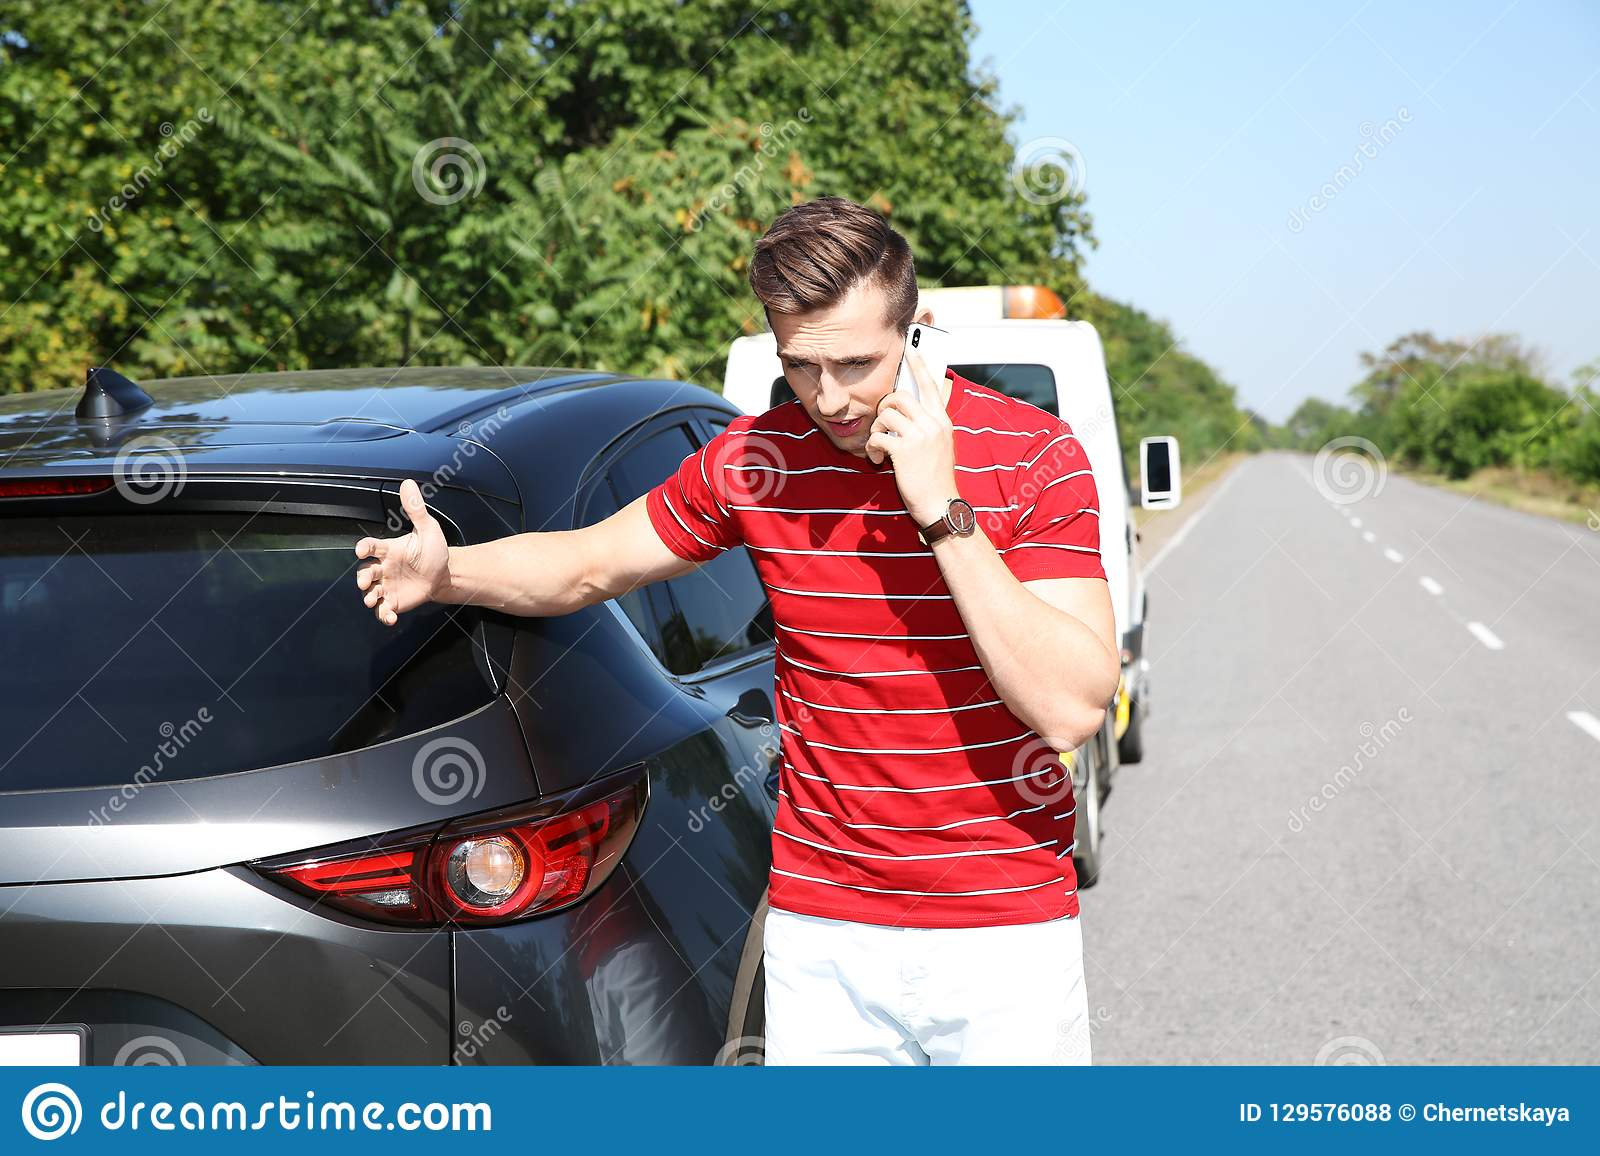phone: (880, 324, 950, 435)
talk: (776, 317, 958, 523)
